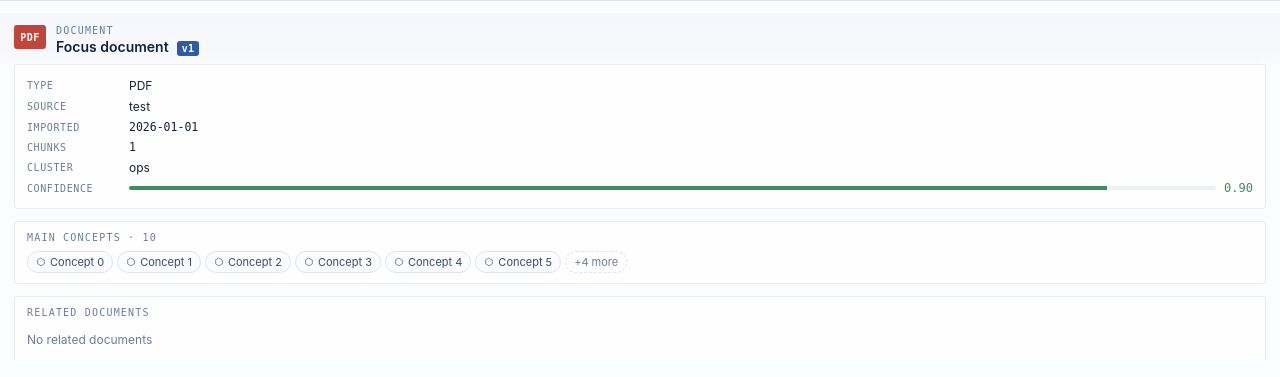
Scenario: DetailPanel (explorer) › clicking the doc-concepts +N more affordance reveals the rest
Click the button with test id "kx-doc-concepts-more" at (596, 262), box [565, 251, 627, 273]
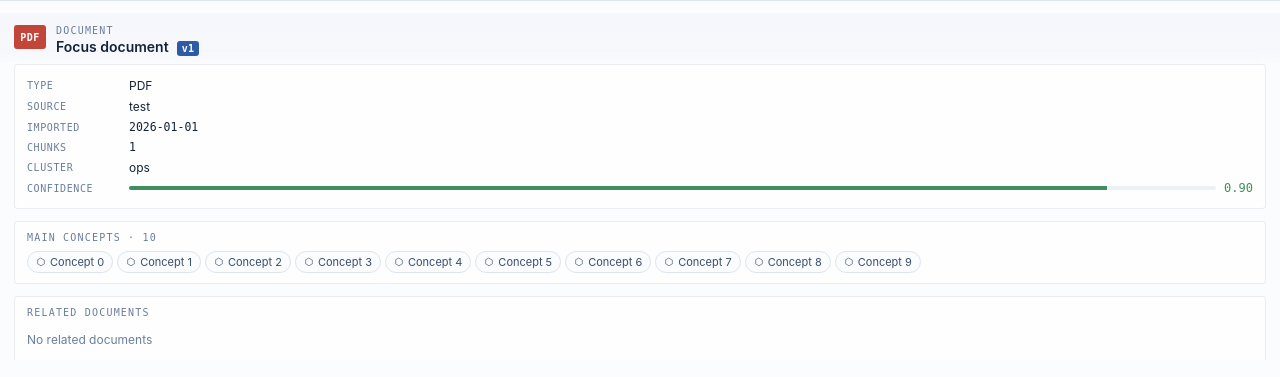
Expected: the button with test id "kx-doc-concepts-more" is gone
